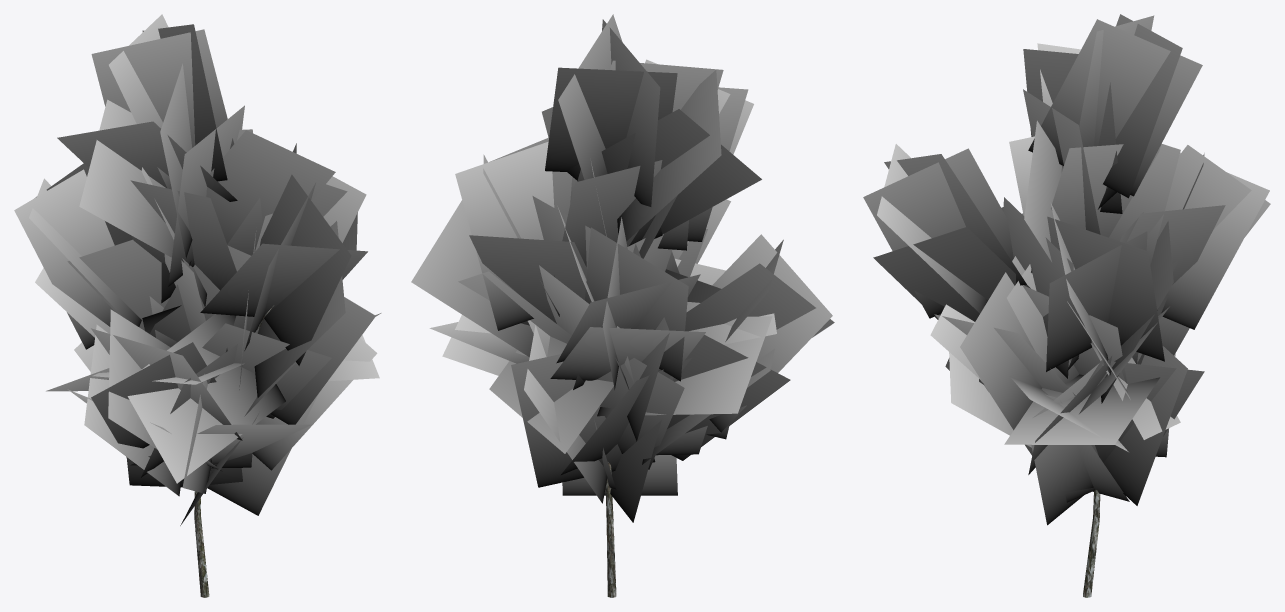
The model's file is tree16A.fbx.
The picture shows the model from 3 angles, left to right: view 1: azimuth 30°, elevation 25°; view 2: azimuth 150°, elevation 25°; view 3: azimuth 270°, elevation 25°; orthographic projection. The views are drawn at different scales.
Visible parts, largest first — view 1: tree16A_leafs, tree16A_leafs_flip, tree16_bark; view 2: tree16A_leafs, tree16A_leafs_flip, tree16_bark; view 3: tree16A_leafs, tree16A_leafs_flip, tree16_bark.
Part boxes in pixels (box(x1,y1,x2,y2)): tree16A_leafs: box(14, 14, 381, 525); tree16A_leafs_flip: box(15, 16, 378, 511); tree16_bark: box(194, 305, 273, 597); tree16A_leafs: box(411, 14, 834, 522); tree16A_leafs_flip: box(412, 16, 832, 521); tree16_bark: box(605, 462, 616, 597); tree16A_leafs: box(863, 14, 1270, 525); tree16A_leafs_flip: box(864, 15, 1269, 521); tree16_bark: box(1083, 489, 1100, 597).
Bounding box in the file's own units: 4.39 × 7.09 × 4.56.
